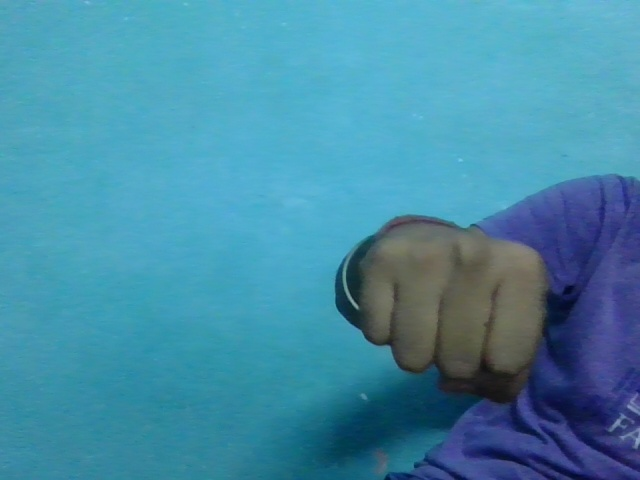yes: (350, 220, 562, 391)
